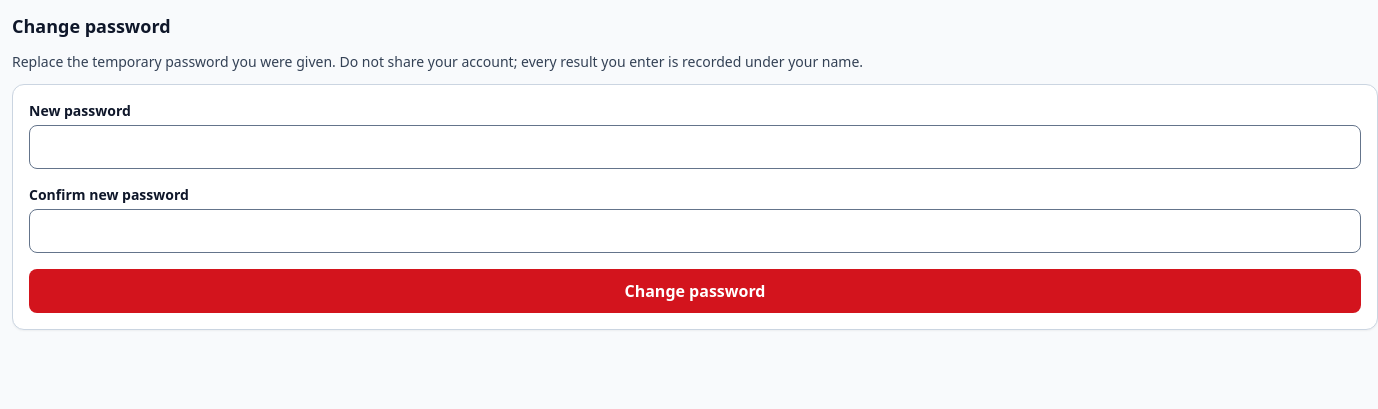
Scenario: ChangePassword › updates the password
Type "a-long-password" into the password field labelled "New password" at x=695, y=147, box [29, 125, 1361, 169]
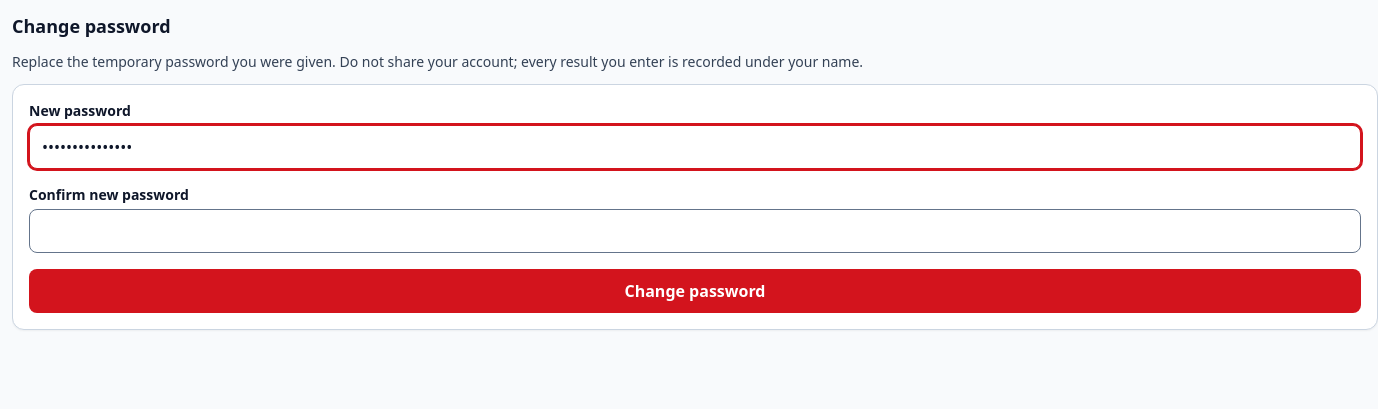
Type "a-long-password" into the password field labelled "Confirm new password" at x=695, y=231, box [29, 209, 1361, 253]
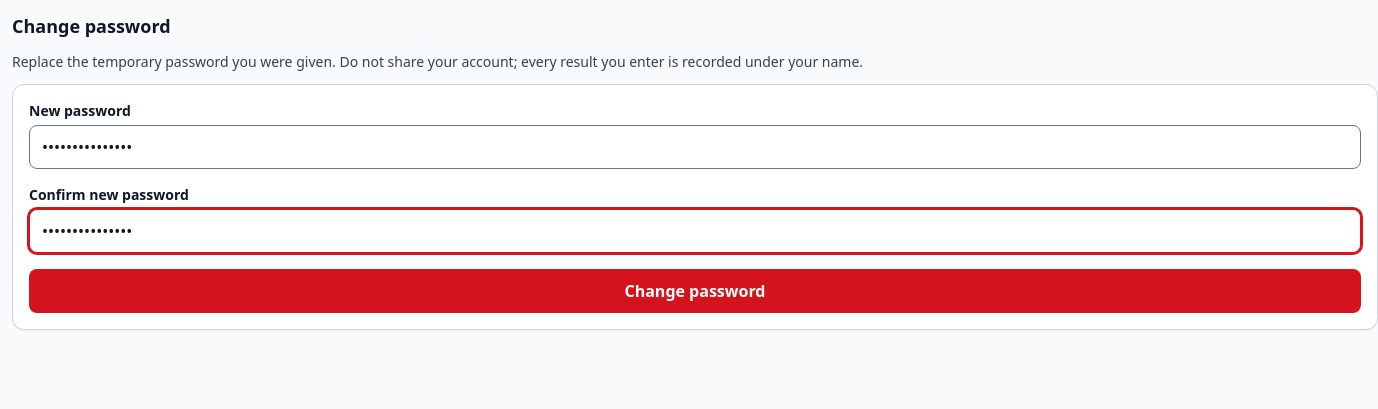
Click the button "Change password" at x=695, y=291, box [29, 269, 1361, 313]
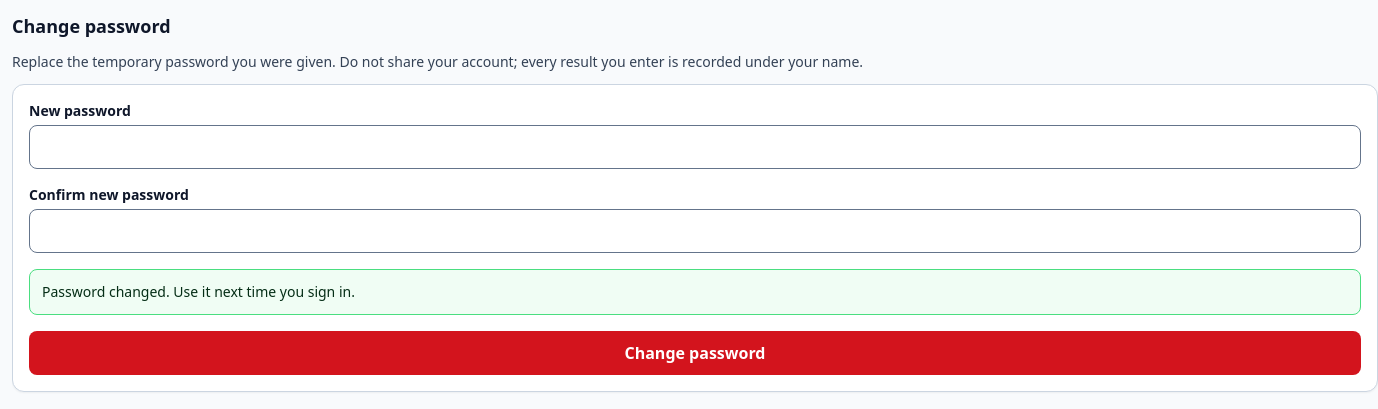
Now the text "Password changed. Use it next time you sign in." is shown, box [42, 282, 355, 301]
